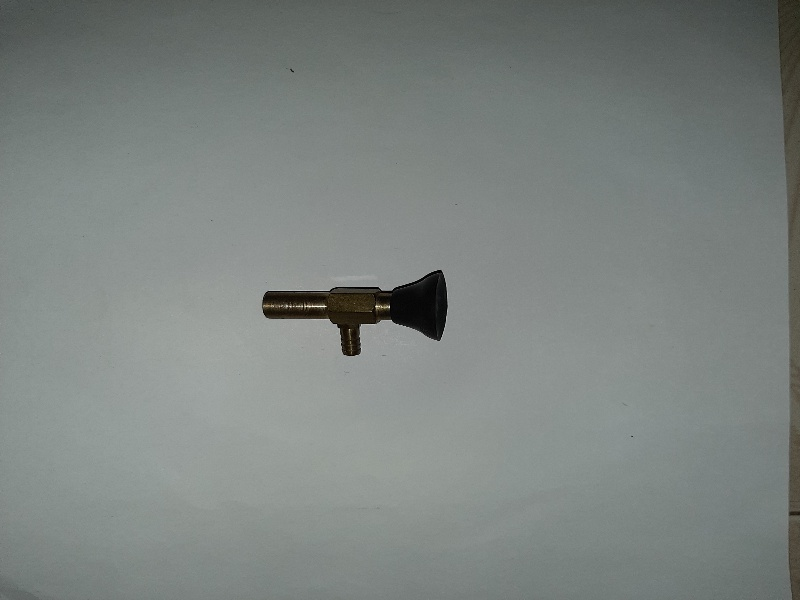Joint Hold: (258, 261, 452, 361)
